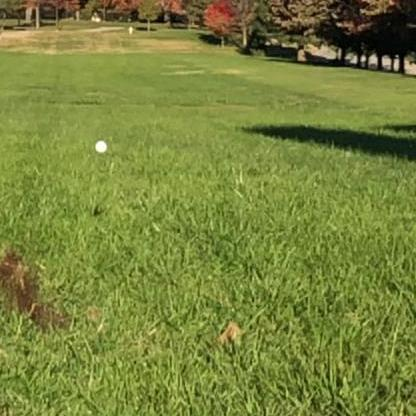golfball: (93, 138, 107, 152)
